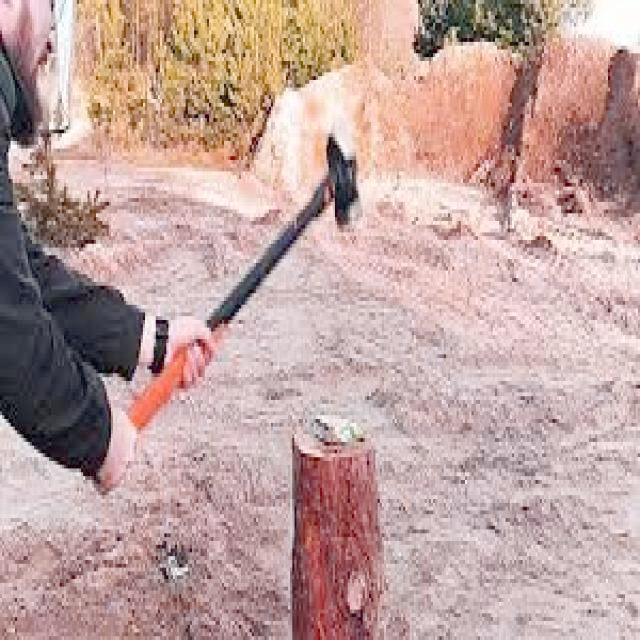hammer: (118, 120, 364, 440)
